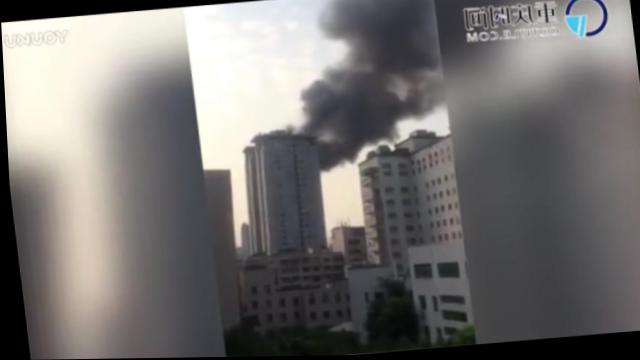smoke: (314, 0, 440, 75), (292, 71, 400, 152), (391, 68, 444, 119)
